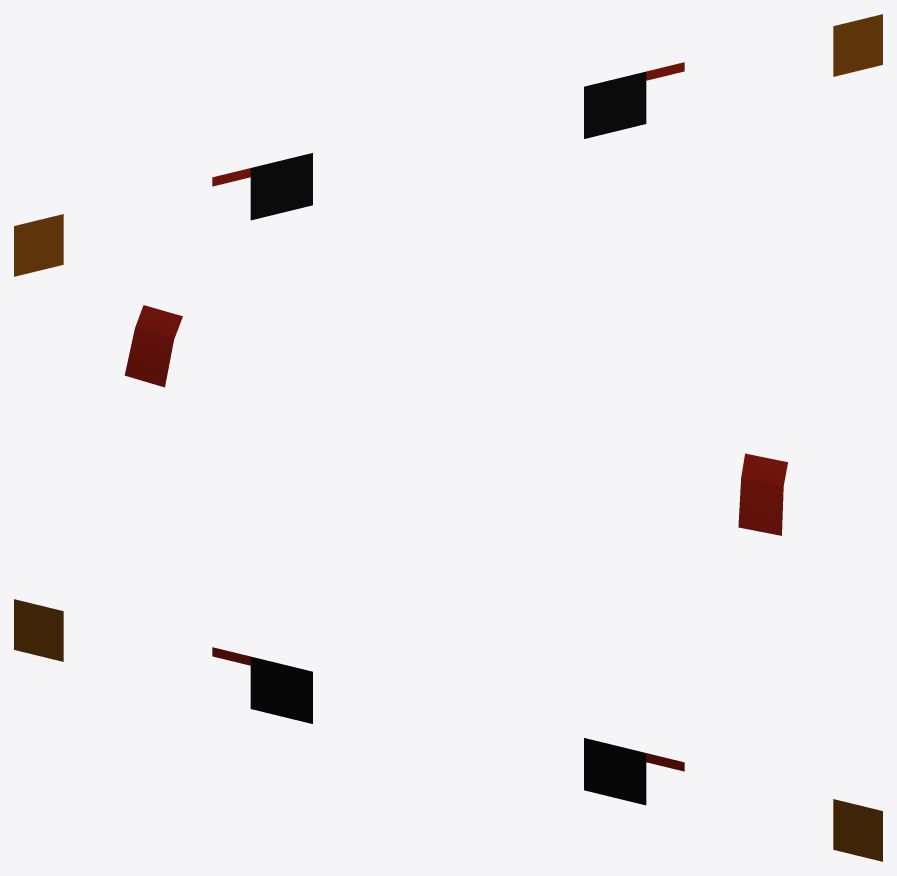
The model's file is levin_lod_4.glb.
3 renders of one model, top to bottom at view 1: azimuth 30°, elevation 25°; view 2: azimuth 150°, elevation 25°; view 3: azimuth 330°, elevation 25°, orthographic.
Visible parts, largest first — view 1: RearLampInnerTrimRight, RearLampInnerTrimLeft, RearLampOuterAmberRight, RearLampOuterAmberLeft; view 2: RearBrakeLensInserts; view 3: RearLampInnerTrimRight, RearLampInnerTrimLeft, RearLampOuterAmberRight, RearLampOuterAmberLeft.
Part boxes in pixels (<box>): RearLampInnerTrimRight: <box>250,153,312,220</box>; RearLampInnerTrimLeft: <box>584,71,646,138</box>; RearLampOuterAmberRight: <box>14,214,63,276</box>; RearLampOuterAmberLeft: <box>833,14,882,76</box>; RearBrakeLensInserts: <box>124,305,787,535</box>; RearLampInnerTrimRight: <box>250,656,312,723</box>; RearLampInnerTrimLeft: <box>584,738,646,805</box>; RearLampOuterAmberRight: <box>14,599,63,661</box>; RearLampOuterAmberLeft: <box>833,799,882,861</box>.
Size of what is drawn, in the model's own units: 133 by 10.21 by 4.59.
